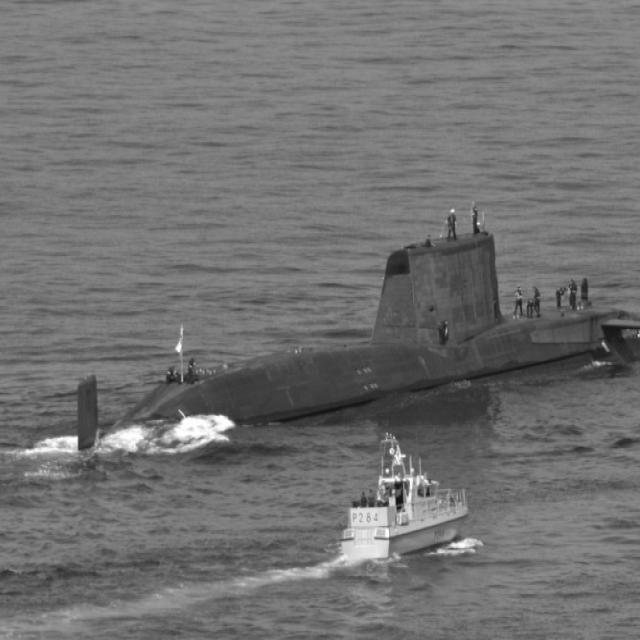submarine: (72, 229, 640, 450)
